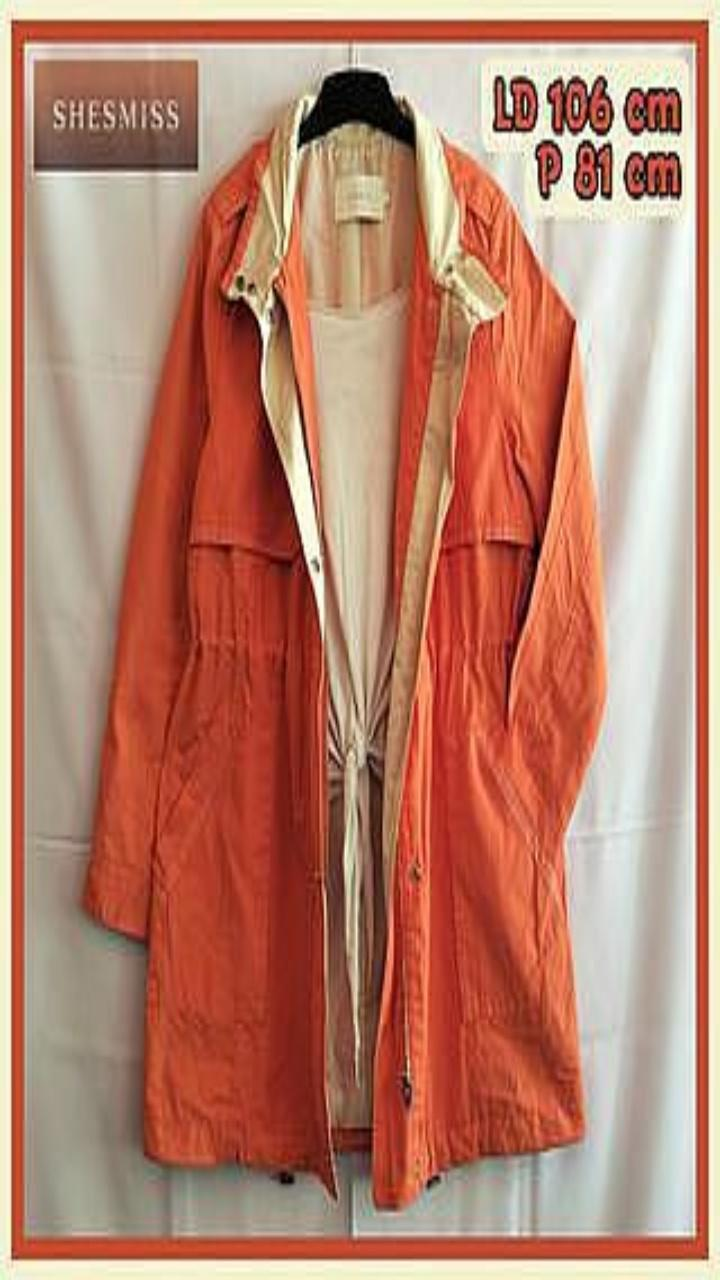Sports_Jacket: (82, 91, 606, 1207)
